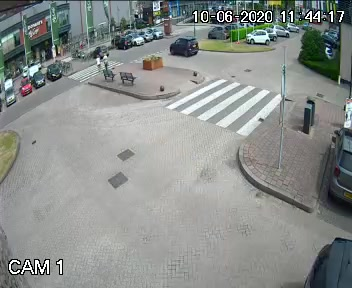car: (163, 33, 202, 65)
